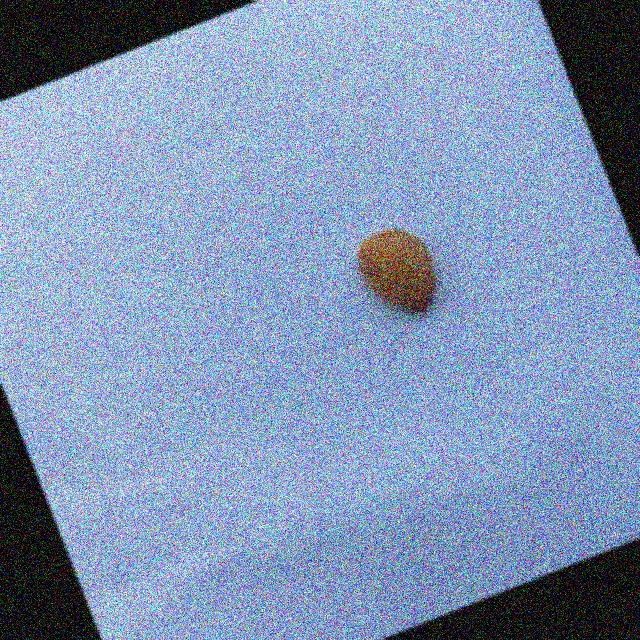grade2: (343, 214, 453, 333)
